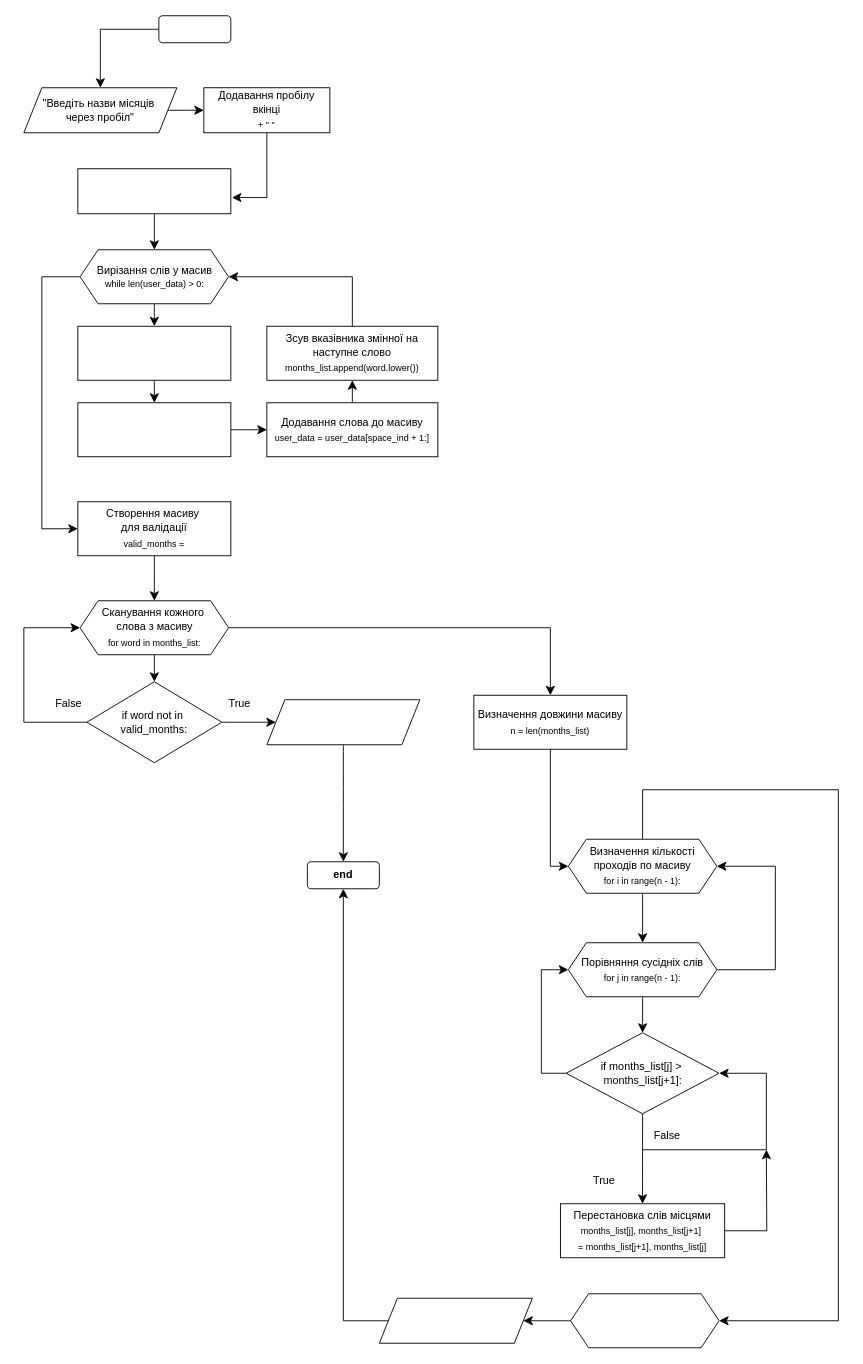
The diagram is 863 pixels wide and 1364 high, and some of its shapes have lost their labels. The shapes that lost their labels are listed below. From the top down, each one's centre as x and y in pixels, then its label:
[194,29]: start
[154,191]: Створення пустого масиву (months_list = [])
[154,352]: Пошук індекса пробілу space_ind = user_data.find(' ')
[154,429]: Виділення усіх букв слова до знайденого пробілу word = user_data[:space_ind]
[343,722]: "Слово не є назвою місяця"
[455,1320]: print(word)
[644,1320]: Виведення масиву послівно for word in months_list:
